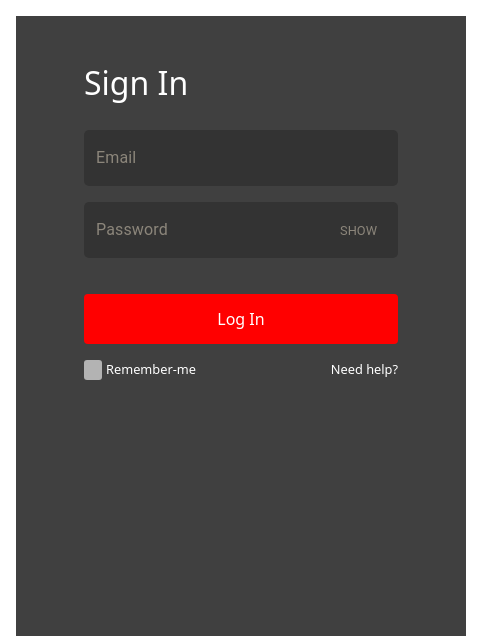
Test: LoginCard Component › SHOW/HIDE-password-feature should behave properly
Click the button "SHOW" at (359, 230), box [332,211,385,250]
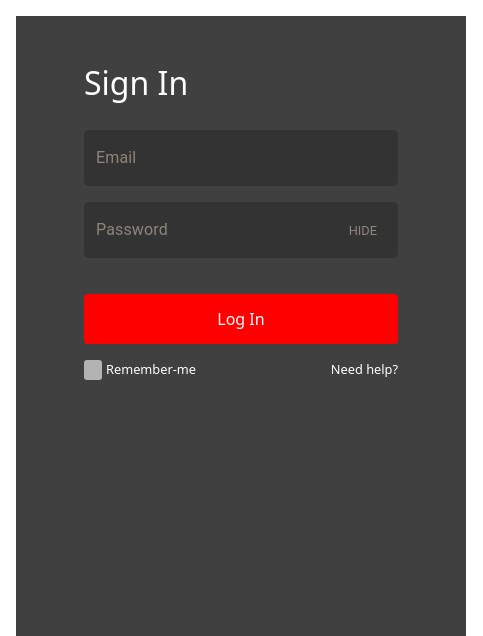
Now the button "HIDE" is shown, box [341,211,385,250]
